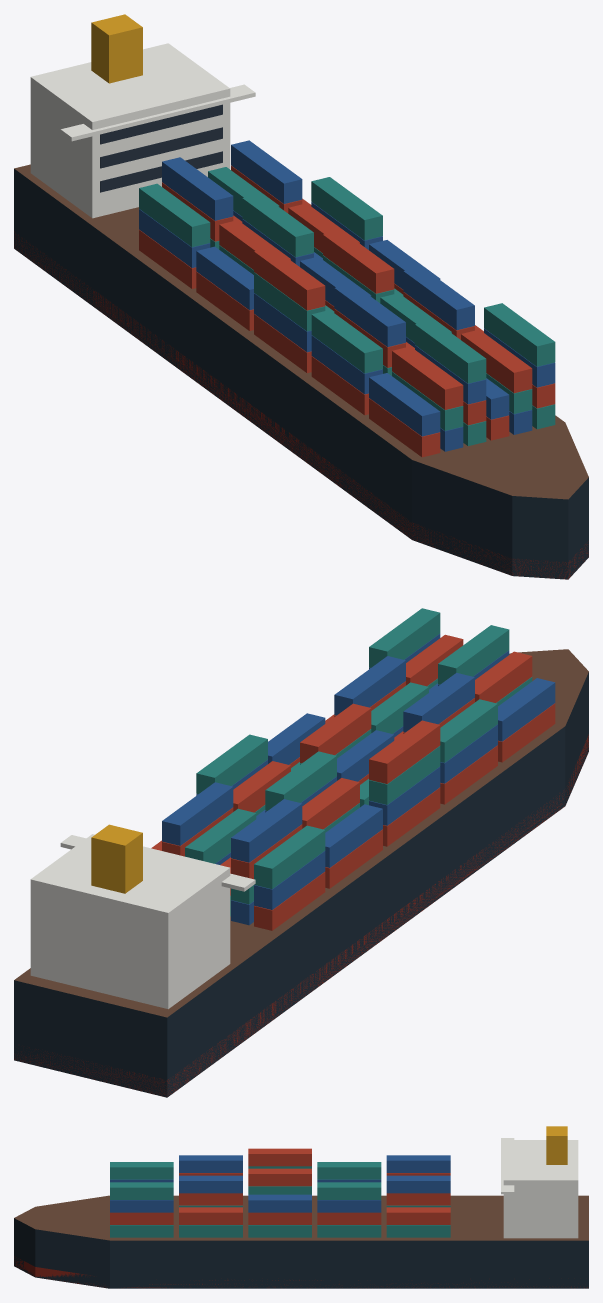
The model's file is bld_in_ship.glb.
The picture shows the model from 3 angles, top to bottom: view 1: azimuth 30°, elevation 25°; view 2: azimuth 150°, elevation 25°; view 3: azimuth 270°, elevation 25°; orthographic projection. The views are drawn at different scales.
Parts seen in each view (by area): view 1: bld_in_ship; view 2: bld_in_ship; view 3: bld_in_ship.
Part boxes in pixels (left/top/right/bottom): bld_in_ship: left=14, top=14, right=588, bottom=579; bld_in_ship: left=14, top=608, right=588, bottom=1097; bld_in_ship: left=14, top=1126, right=588, bottom=1288.
Size of what is drawn, in the model's own units: 24 by 28 by 108.
